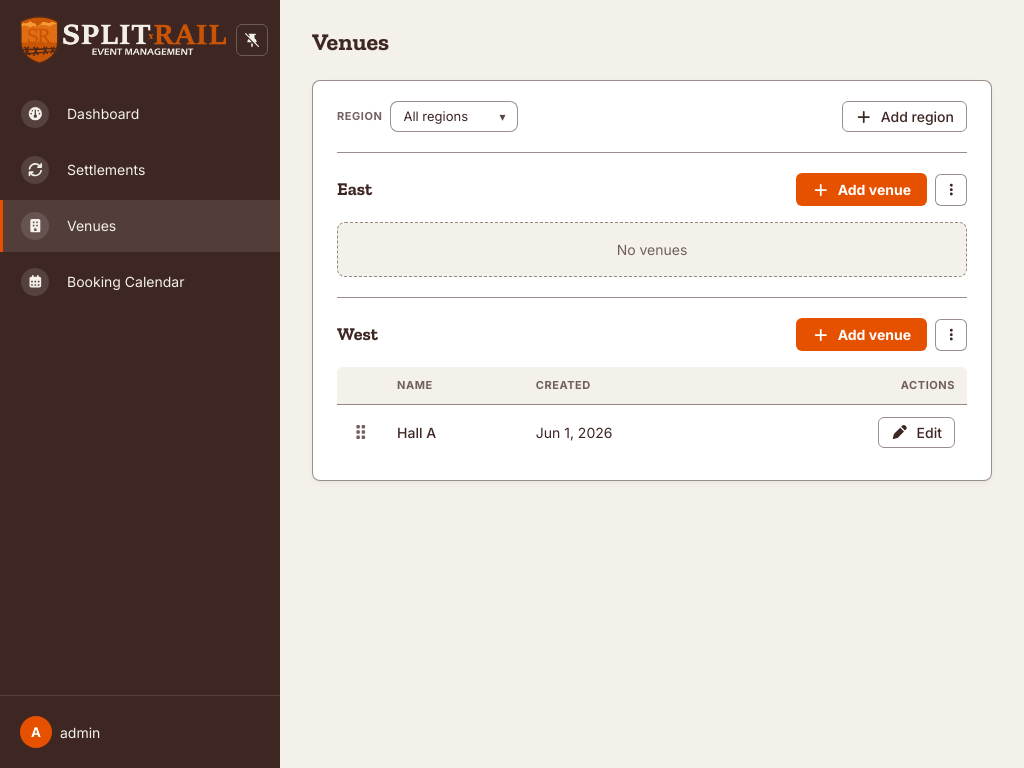
Test: VenuesPage › opens the resolution modal when deleting a region that still has venues
Click the button named "Region actions for West": (951, 334) x1=935 y1=318 x2=967 y2=350
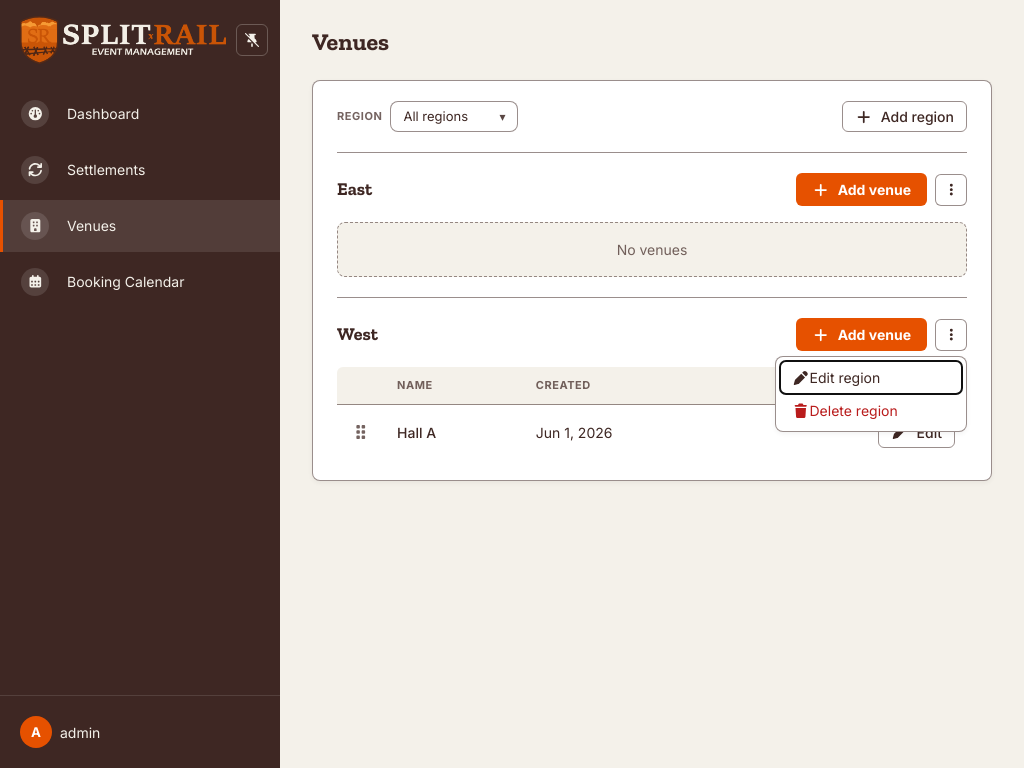
Click the menu item "Delete region": (871, 411) x1=780 y1=394 x2=962 y2=427
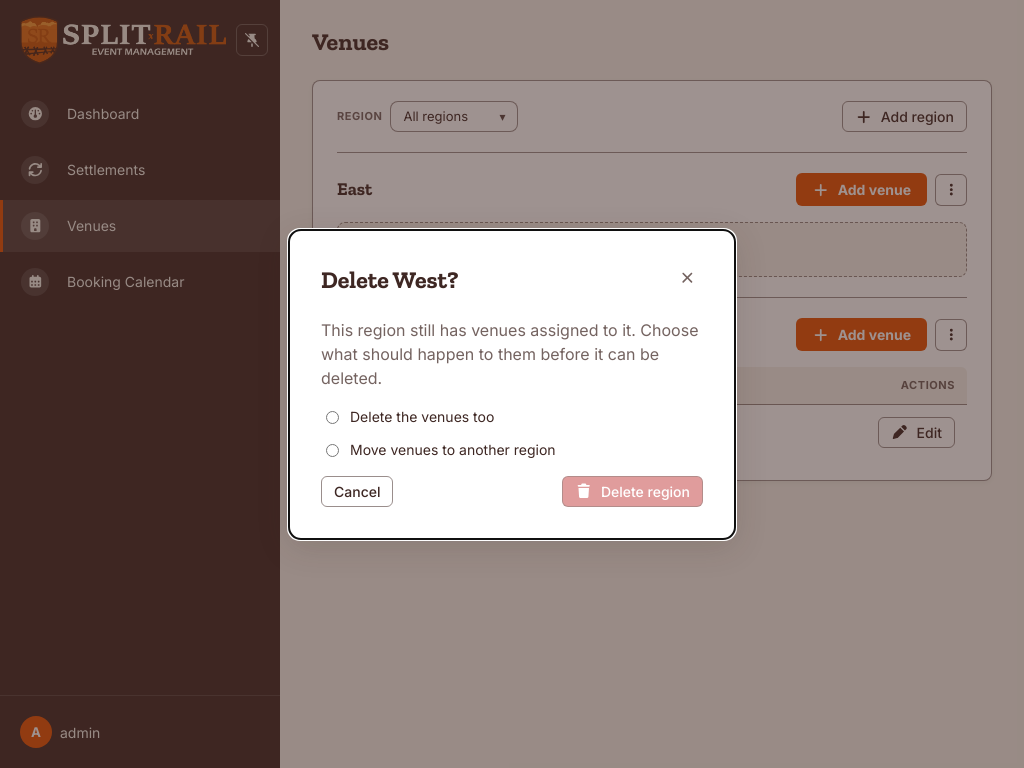
Expected: the dialog with test id "region-delete-resolution-modal" is shown, x1=288 y1=228 x2=736 y2=540
